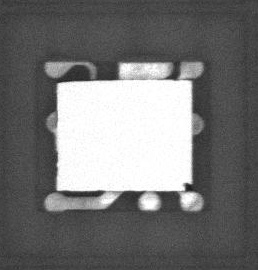DIE_BROKEN: (182, 180, 192, 191)
